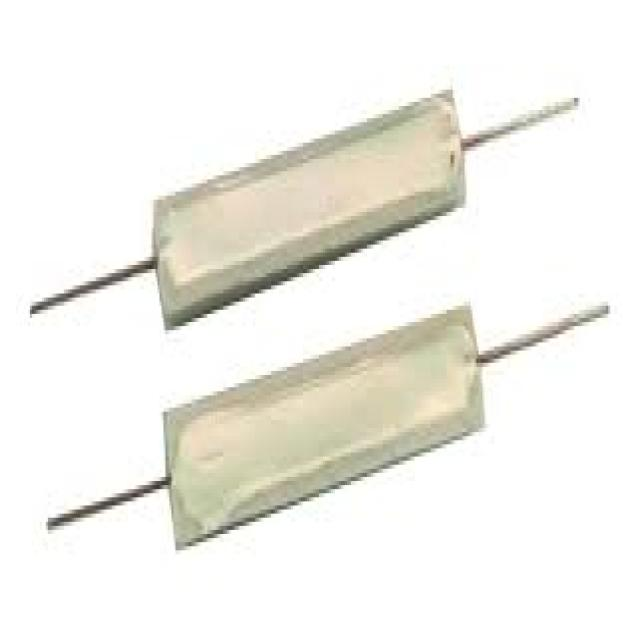Resistor: (163, 308, 480, 548), (157, 90, 458, 330)
